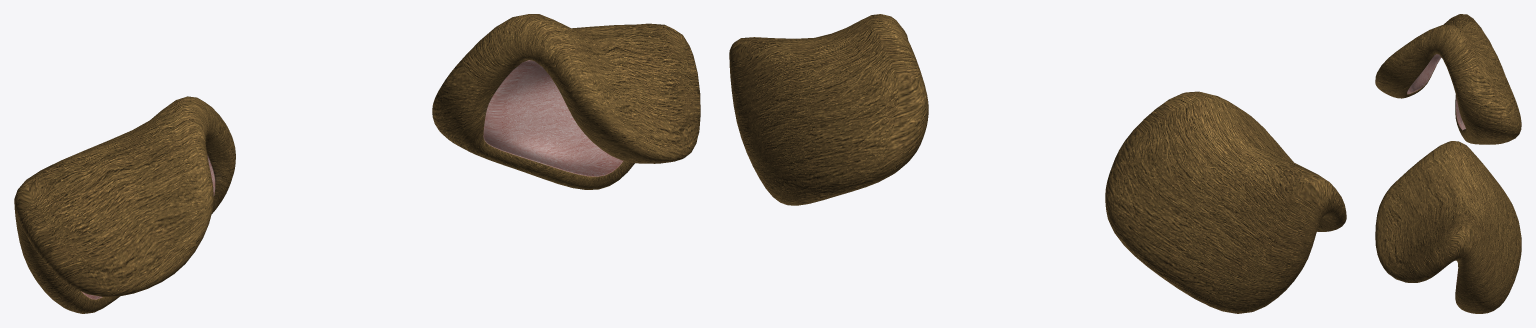
The model's file is dog_ears.obj.
The picture shows the model from 3 angles, left to right: view 1: azimuth 30°, elevation 25°; view 2: azimuth 150°, elevation 25°; view 3: azimuth 270°, elevation 25°; orthographic projection. The views are drawn at different scales.
Visible parts, largest first — view 1: Ears; view 2: Ears; view 3: Ears.
Boxes of the visible parts, x1,y1,x2,y2 form: Ears: (14,14,700,313); Ears: (729,14,1346,313); Ears: (1375,14,1521,313).
Size of the model in its own units: 36.45 by 10.64 by 9.98.
Materials: 1 (1 with a texture image).
